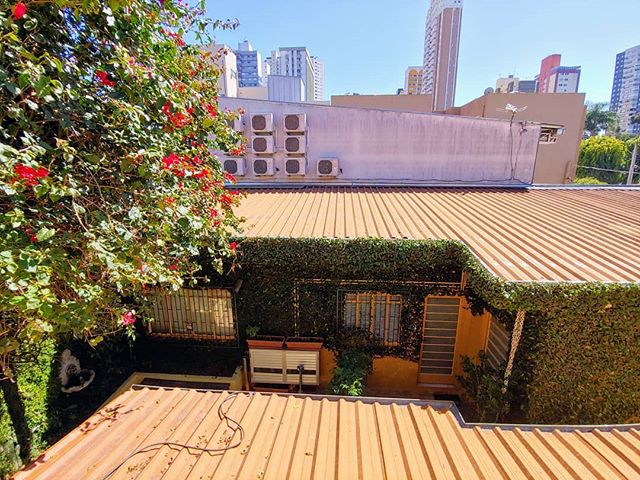building: (95, 198, 626, 480), (221, 69, 581, 198), (414, 1, 460, 107), (258, 50, 317, 107), (614, 52, 640, 153), (222, 45, 258, 103)
sky: (228, 1, 635, 93)
tree: (1, 13, 222, 436)
